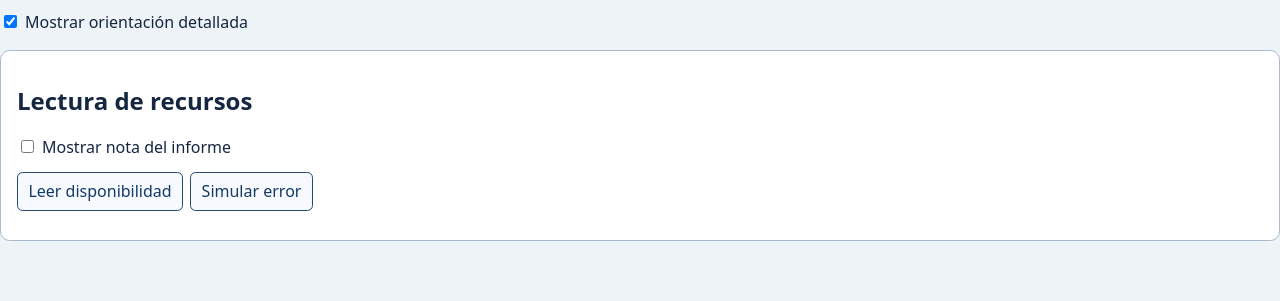
Acciones y recursos › lee un contexto de forma condicional sin alterar su origen
Check: the text "El informe tiene plazas ficticias." is not shown
Click the checkbox labelled "Mostrar nota del informe": click(28, 147) top-left (21, 140), bottom-right (34, 153)
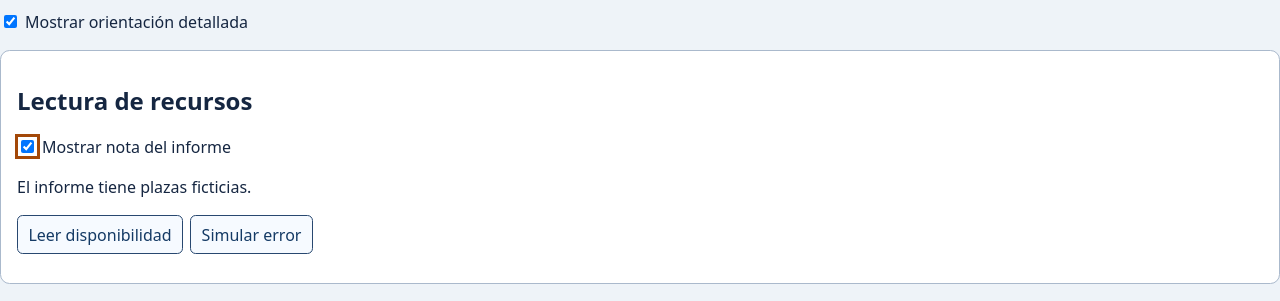
Check: the text "El informe tiene plazas ficticias." is shown, box top-left (17, 176), bottom-right (251, 198)
Click the checkbox labelled "Mostrar orientación detallada": click(10, 21) top-left (4, 15), bottom-right (17, 28)
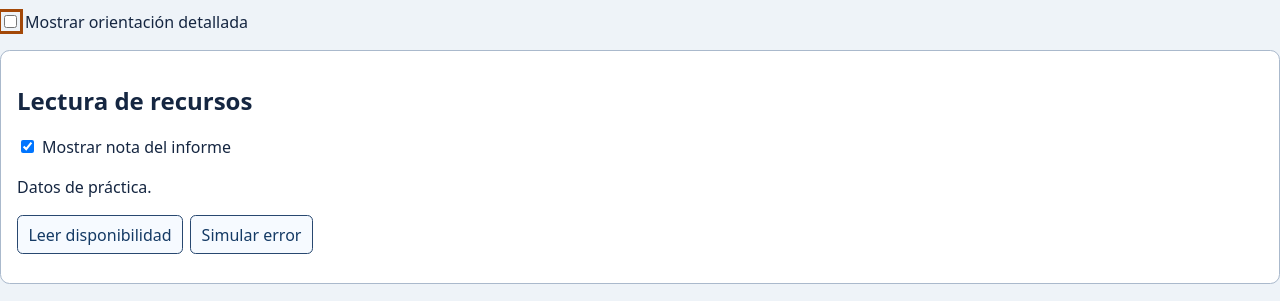
Check: the text "Datos de práctica." is shown, box top-left (17, 176), bottom-right (152, 198)
